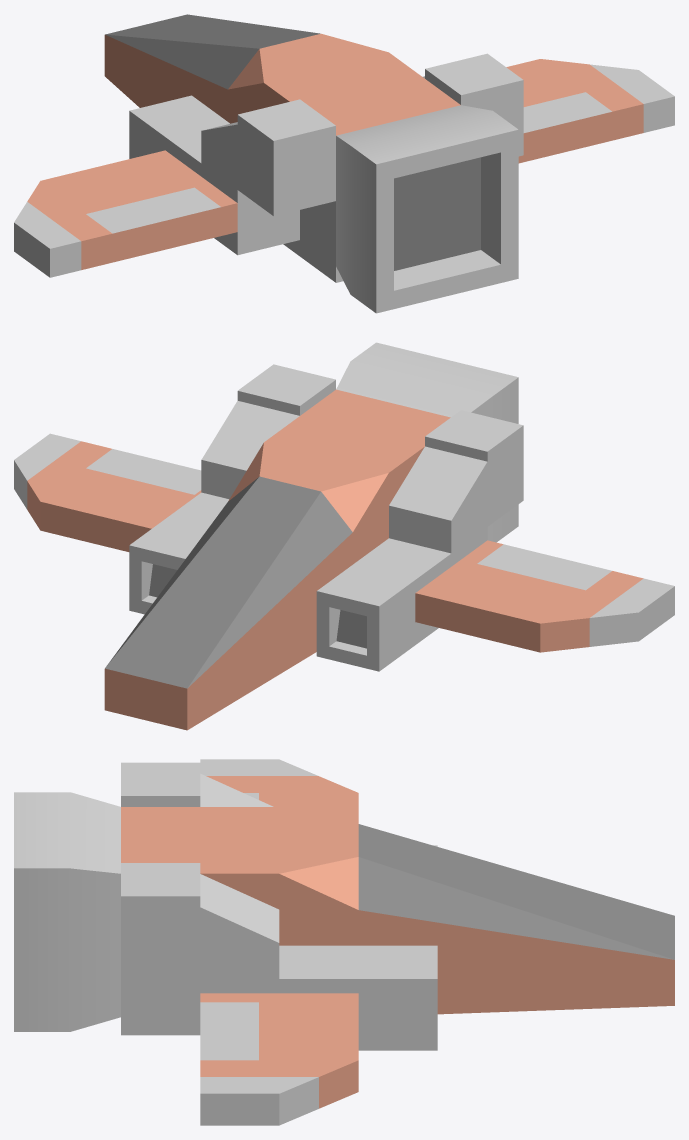
The model's file is SpaceShip.dae.
The picture shows the model from 3 angles, top to bottom: view 1: azimuth 30°, elevation 25°; view 2: azimuth 150°, elevation 25°; view 3: azimuth 270°, elevation 25°; orthographic projection. The views are drawn at different scales.
Parts seen in each view (by area): view 1: spaceCraft1_8angles; view 2: spaceCraft1_8angles; view 3: spaceCraft1_8angles.
Boxes of the visible parts, box(x1,y1,x2,y2) form: spaceCraft1_8angles: box(14, 14, 674, 313); spaceCraft1_8angles: box(14, 342, 674, 730); spaceCraft1_8angles: box(14, 759, 674, 1125).
Size of the model in its own units: 19.75 by 16.5 by 5.25.
